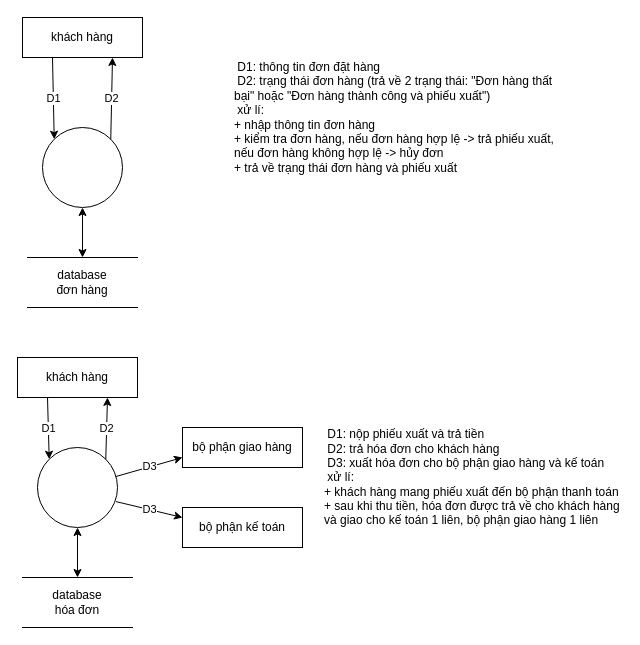
Some shapes in this 640 by 645 pixel diagram are drawn without their labels. Each missing label, with the centre of its shape:
"bán hàng" belongs at (82,167).
"thanh toán" belongs at (77,487).
